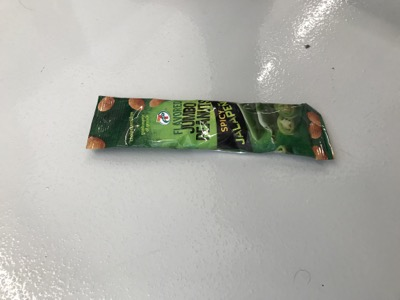peanut: (85, 95, 335, 161)
